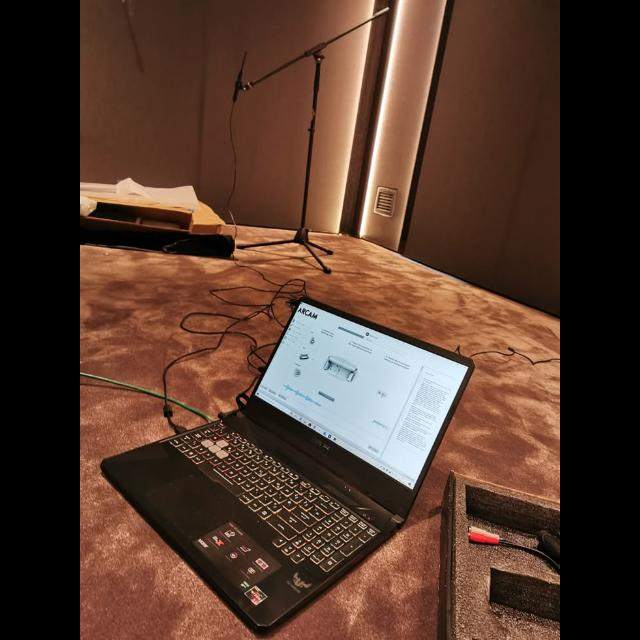laptop: (102, 297, 474, 631)
